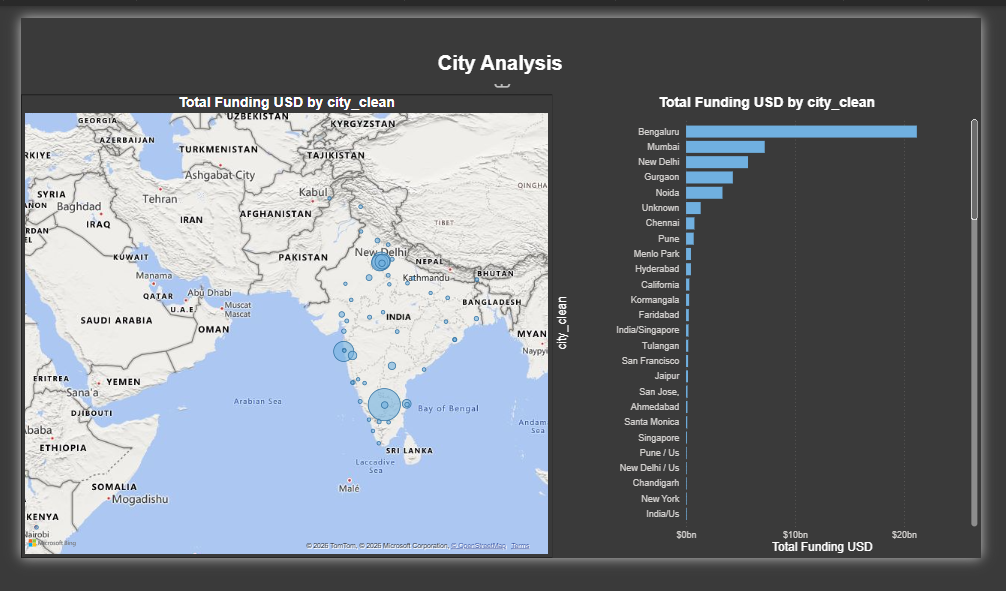

The dashboard page shown, as its layout file describes it:
{"tool":"powerbi","page":{"name":"City Analysis","canvas":[1280,720],"ordinal":2},"visuals":[{"type":"map","fields":{"Category":["startup_funding_cleaned.city_clean"],"Size":["startup_funding_cleaned.Total Funding USD"]},"box":[0,102,708,618],"z":0},{"type":"barChart","fields":{"Category":["startup_funding_cleaned.city_clean"],"Y":["startup_funding_cleaned.Total Funding USD"]},"box":[708,102,572,618],"z":1000},{"type":"textbox","box":[100,40,1078,48],"z":2000}]}

Visuals, with their boxes on the page's 1280x720 design canvas (x1, y1, x2, y2). These are canvas units, not pixel positions in the 1006x591 screenshot, which may show the page scaled, cropped or inside an application window:
map - startup_funding_cleaned.city_clean x startup_funding_cleaned.Total Funding USD: 0,102,708,720
barChart - startup_funding_cleaned.city_clean x startup_funding_cleaned.Total Funding USD: 708,102,1280,720
textbox: 100,40,1178,88
